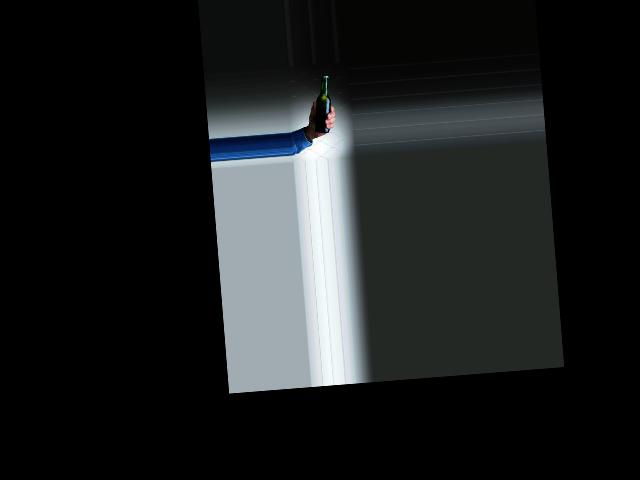beer: (310, 76, 333, 133)
